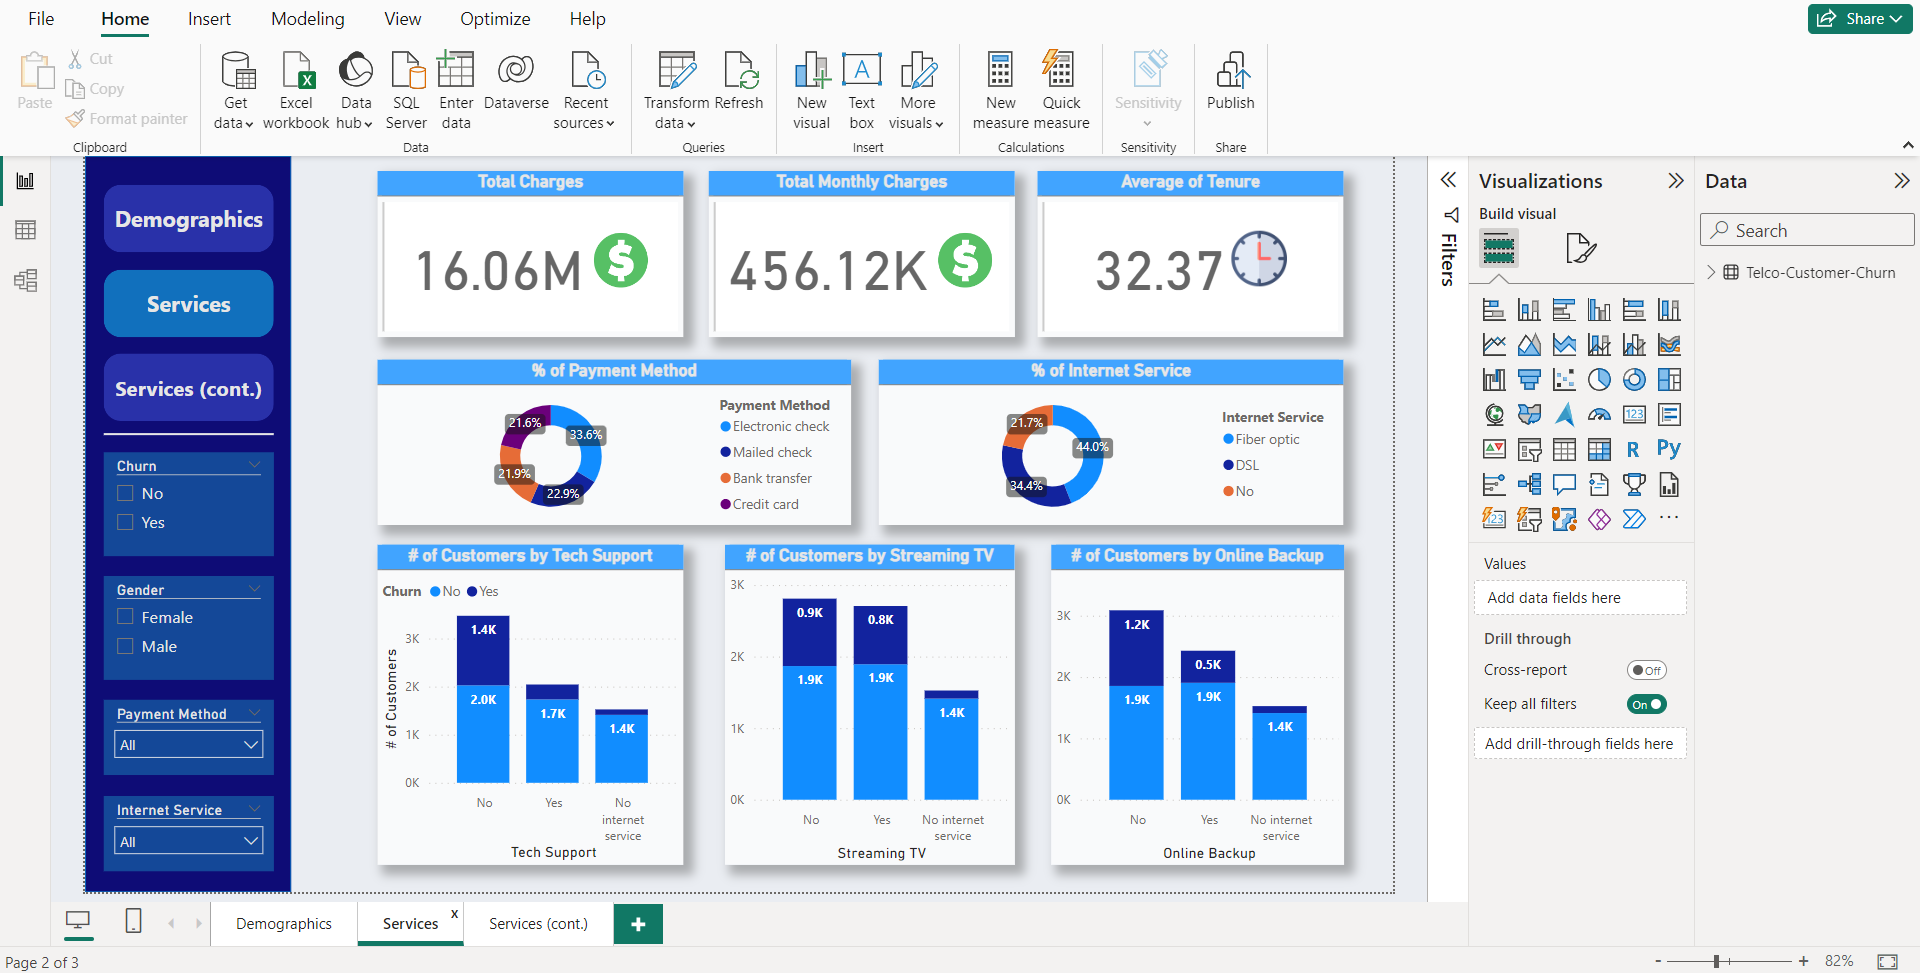

The dashboard page shown, as its layout file describes it:
{"tool":"powerbi","page":{"name":"Services","canvas":[1280,720],"ordinal":1},"visuals":[{"type":"shape","box":[0,0,201.7,720],"z":0},{"type":"donutChart","title":"% of Payment Method","fields":{"Category":["Telco-Customer-Churn.PaymentMethod"],"Y":["CountNonNull(Telco-Customer-Churn.customerID)"]},"box":[286,199.3,463.3,161.4],"z":0,"group":"g1"},{"type":"slicer","fields":{"Values":["Telco-Customer-Churn.Churn"]},"box":[18.3,289.5,166.2,101.5],"z":1000},{"type":"columnChart","title":"# of Customers by Tech Support","fields":{"Series":["Telco-Customer-Churn.Churn"],"Category":["Telco-Customer-Churn.TechSupport"],"Y":["CountNonNull(Telco-Customer-Churn.customerID)"]},"box":[286,380.2,299.5,312.9],"z":1000,"group":"g1"},{"type":"slicer","fields":{"Values":["Telco-Customer-Churn.gender"]},"box":[18.3,410.5,166.2,101.5],"z":2000},{"type":"slicer","fields":{"Values":["Telco-Customer-Churn.PaymentMethod"]},"box":[18.3,531.5,166.2,73.3],"z":3000},{"type":"slicer","fields":{"Values":["Telco-Customer-Churn.InternetService"]},"box":[18.3,625.6,166.2,73.3],"z":4000},{"type":"cardVisual","title":"Total Charges","fields":{"Data":["Sum(Telco-Customer-Churn.TotalCharges)"]},"box":[286,14.7,299.5,162.6],"z":5000,"group":"g1"},{"type":"shape","box":[18.3,264,166.2,15.9],"z":5000},{"type":"group","id":"g1","title":"Group 1","box":[286,14.7,945.1,678.4],"z":6000},{"type":"actionButton","box":[18.3,28.1,166.2,66],"z":7000},{"type":"actionButton","box":[18.3,111.2,166.2,66],"z":8000},{"type":"actionButton","box":[18.3,193.1,166.2,66],"z":9000},{"type":"columnChart","title":"# of Customers by Streaming TV","fields":{"Series":["Telco-Customer-Churn.Churn"],"Category":["Telco-Customer-Churn.StreamingTV"],"Y":["CountNonNull(Telco-Customer-Churn.customerID)"]},"box":[626.1,380.2,283.6,312.9],"z":10000,"group":"g1"},{"type":"columnChart","title":"# of Customers by Online Backup","fields":{"Series":["Telco-Customer-Churn.Churn"],"Category":["Telco-Customer-Churn.OnlineBackup"],"Y":["CountNonNull(Telco-Customer-Churn.customerID)"]},"box":[945.1,380.2,286,312.9],"z":13000,"group":"g1"},{"type":"cardVisual","title":"Total Monthly Charges","fields":{"Data":["Sum(Telco-Customer-Churn.MonthlyCharges)"]},"box":[609.9,14.7,299.5,162.6],"z":14000,"group":"g1"},{"type":"donutChart","title":"% of Internet Service","fields":{"Category":["Telco-Customer-Churn.InternetService"],"Y":["CountNonNull(Telco-Customer-Churn.customerID)"]},"box":[776.2,199.3,454.7,161.4],"z":15000,"group":"g1"},{"type":"cardVisual","title":"Average of Tenure","fields":{"Data":["Avg(Telco-Customer-Churn.tenure)"]},"box":[931.4,14.7,299.5,162.6],"z":16000,"group":"g1"}]}

Visuals, with their boxes on the page's 1280x720 design canvas (x1, y1, x2, y2). These are canvas units, not pixel positions in the 1920x973 screenshot, which may show the page scaled, cropped or inside an application window:
shape: left=0, top=0, right=202, bottom=720
"% of Payment Method" donutChart: left=286, top=199, right=749, bottom=361
slicer - Telco-Customer-Churn.Churn: left=18, top=290, right=184, bottom=391
"# of Customers by Tech Support" columnChart: left=286, top=380, right=586, bottom=693
slicer - Telco-Customer-Churn.gender: left=18, top=410, right=184, bottom=512
slicer - Telco-Customer-Churn.PaymentMethod: left=18, top=532, right=184, bottom=605
slicer - Telco-Customer-Churn.InternetService: left=18, top=626, right=184, bottom=699
"Total Charges" cardVisual: left=286, top=15, right=586, bottom=177
shape: left=18, top=264, right=184, bottom=280
"Group 1" group: left=286, top=15, right=1231, bottom=693
actionButton: left=18, top=28, right=184, bottom=94
actionButton: left=18, top=111, right=184, bottom=177
actionButton: left=18, top=193, right=184, bottom=259
"# of Customers by Streaming TV" columnChart: left=626, top=380, right=910, bottom=693
"# of Customers by Online Backup" columnChart: left=945, top=380, right=1231, bottom=693
"Total Monthly Charges" cardVisual: left=610, top=15, right=909, bottom=177
"% of Internet Service" donutChart: left=776, top=199, right=1231, bottom=361
"Average of Tenure" cardVisual: left=931, top=15, right=1231, bottom=177
